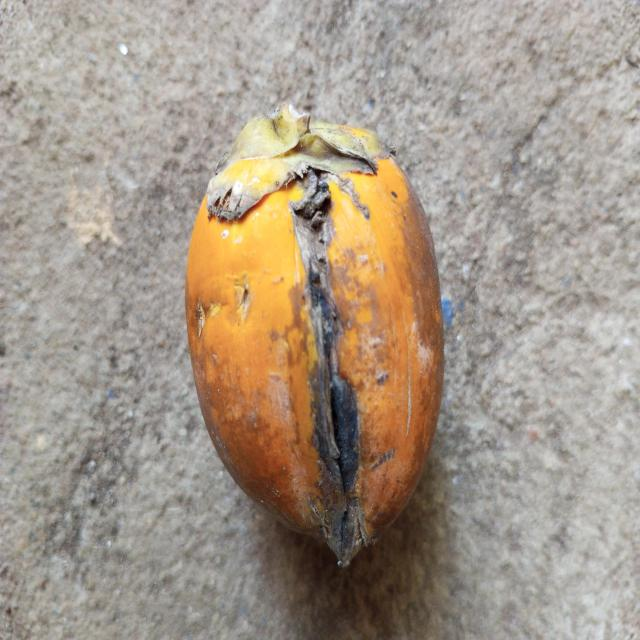damaged: (183, 108, 445, 570)
